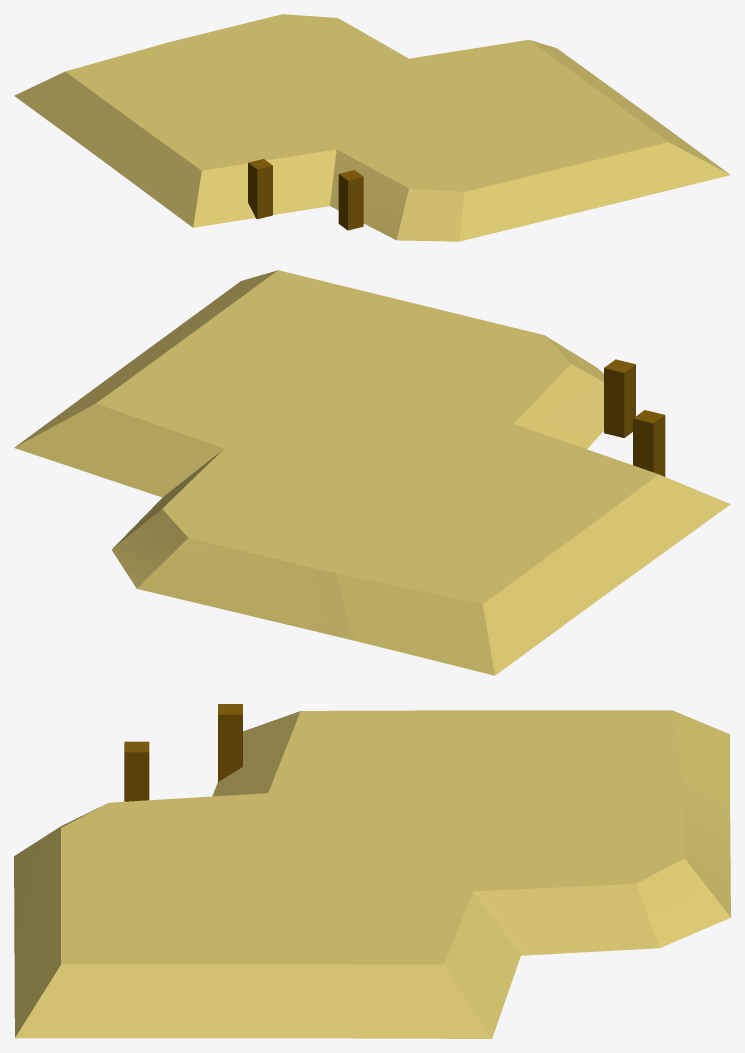
Rendered from FourWayHalfFilled_1.fbx.
3 views of the same model, one above another, from view 1: azimuth 30°, elevation 25°; view 2: azimuth 150°, elevation 25°; view 3: azimuth 270°, elevation 25° (orthographic). The views are drawn at different scales.
Visible parts, largest first — view 1: Normal - Four Way Half Filled.001; view 2: Normal - Four Way Half Filled.001; view 3: Normal - Four Way Half Filled.001.
Part boxes in pixels (<box>): Normal - Four Way Half Filled.001: <box>14,14,730,241</box>; Normal - Four Way Half Filled.001: <box>14,270,730,675</box>; Normal - Four Way Half Filled.001: <box>14,704,730,1038</box>.
Size of the model in its own units: 151 by 15.8 by 150.
